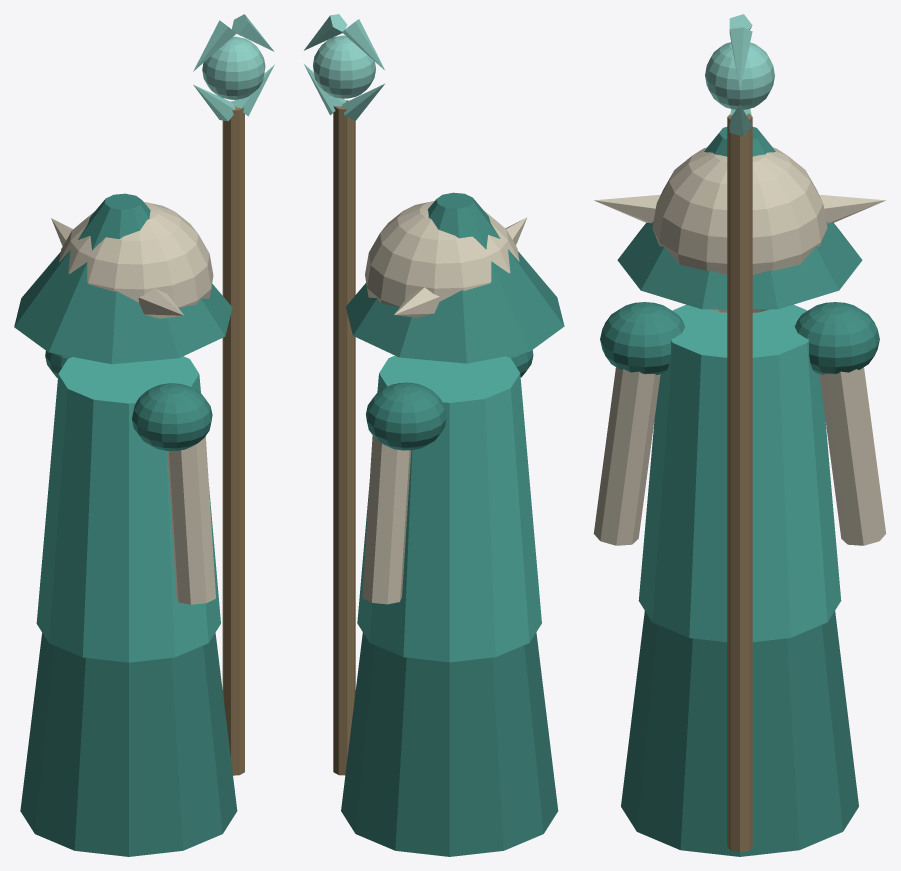
File: hero_yllien_5.glb
3 views of the same model, side by side, from view 1: azimuth 30°, elevation 25°; view 2: azimuth 150°, elevation 25°; view 3: azimuth 270°, elevation 25° (orthographic). The views are drawn at different scales.
Visible parts, largest first — view 1: figurka; view 2: figurka; view 3: figurka.
Part boxes in pixels (x1=…): figurka: x1=14, y1=14, x2=274, y2=856; figurka: x1=304, y1=14, x2=564, y2=856; figurka: x1=593, y1=14, x2=886, y2=856.
Bounding box in the file's own units: 0.4407 × 1.33 × 0.4183.
